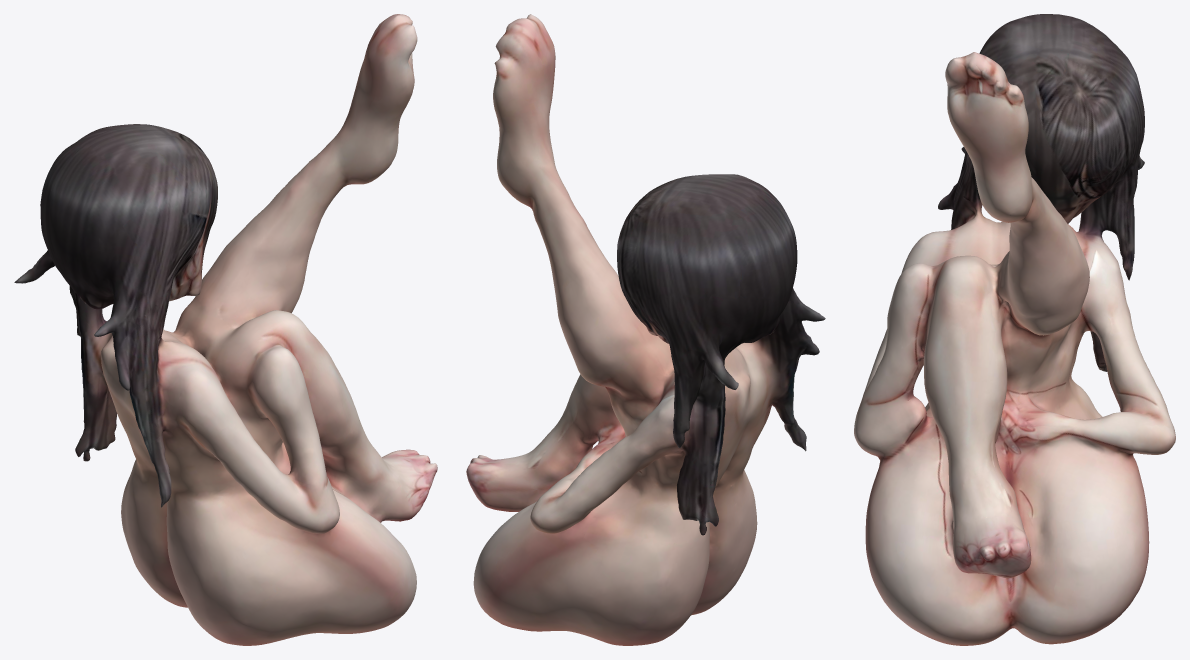
File: Wom4.glb
3 renders of one model, left to right at view 1: azimuth 30°, elevation 25°; view 2: azimuth 150°, elevation 25°; view 3: azimuth 270°, elevation 25°, orthographic. The views are drawn at different scales.
Visible parts, largest first — view 1: tripo_node_e52c0c25-4821-4006-ac41-c4cadfc76791; view 2: tripo_node_e52c0c25-4821-4006-ac41-c4cadfc76791; view 3: tripo_node_e52c0c25-4821-4006-ac41-c4cadfc76791.
Boxes of the visible parts, x1=… form: tripo_node_e52c0c25-4821-4006-ac41-c4cadfc76791: x1=14, y1=14, x2=437, y2=645; tripo_node_e52c0c25-4821-4006-ac41-c4cadfc76791: x1=466, y1=14, x2=825, y2=645; tripo_node_e52c0c25-4821-4006-ac41-c4cadfc76791: x1=854, y1=14, x2=1175, y2=645.
Size of the model in its own units: 0.5237 by 0.8321 by 0.3999.
1 material, 1 textured.
